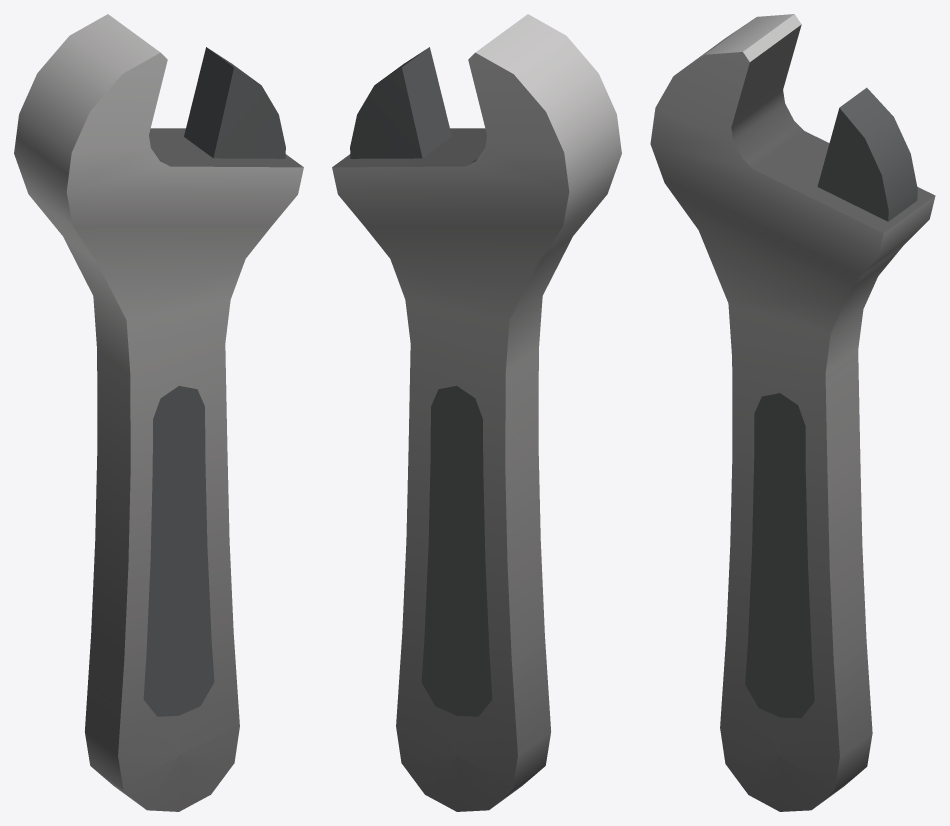
Rendered from Adjustable_Wrench_001.fbx.
3 renders of one model, left to right at view 1: azimuth 30°, elevation 25°; view 2: azimuth 150°, elevation 25°; view 3: azimuth 330°, elevation 25°, orthographic.
Visible parts, largest first — view 1: Adjustable_Wrench_001; view 2: Adjustable_Wrench_001; view 3: Adjustable_Wrench_001.
Boxes of the visible parts, x1,y1,x2,y2 form: Adjustable_Wrench_001: (14,14,303,811); Adjustable_Wrench_001: (332,14,621,811); Adjustable_Wrench_001: (650,14,935,811).
Size of the model in its own units: 13.32 by 5.12 by 41.49.
